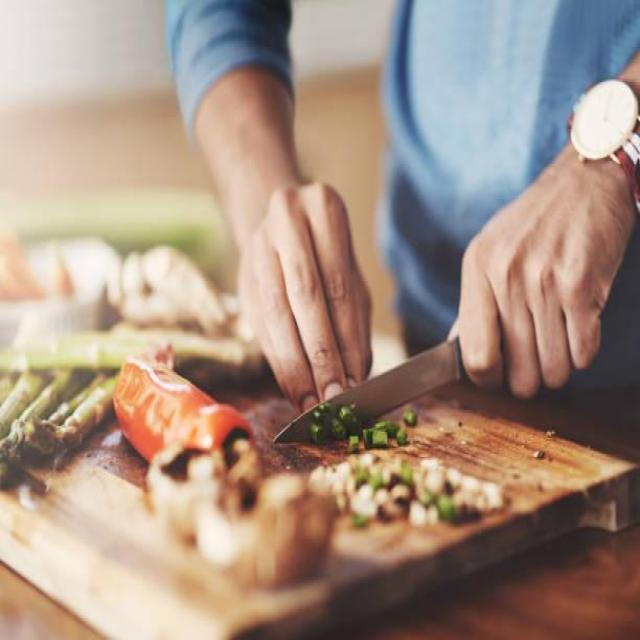faca: (275, 152, 632, 454)
